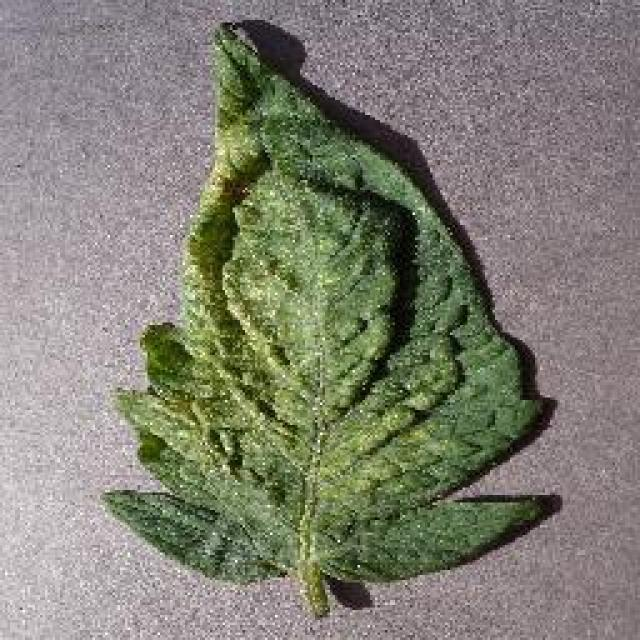Tomato spider mites leaf: (100, 24, 542, 584)
